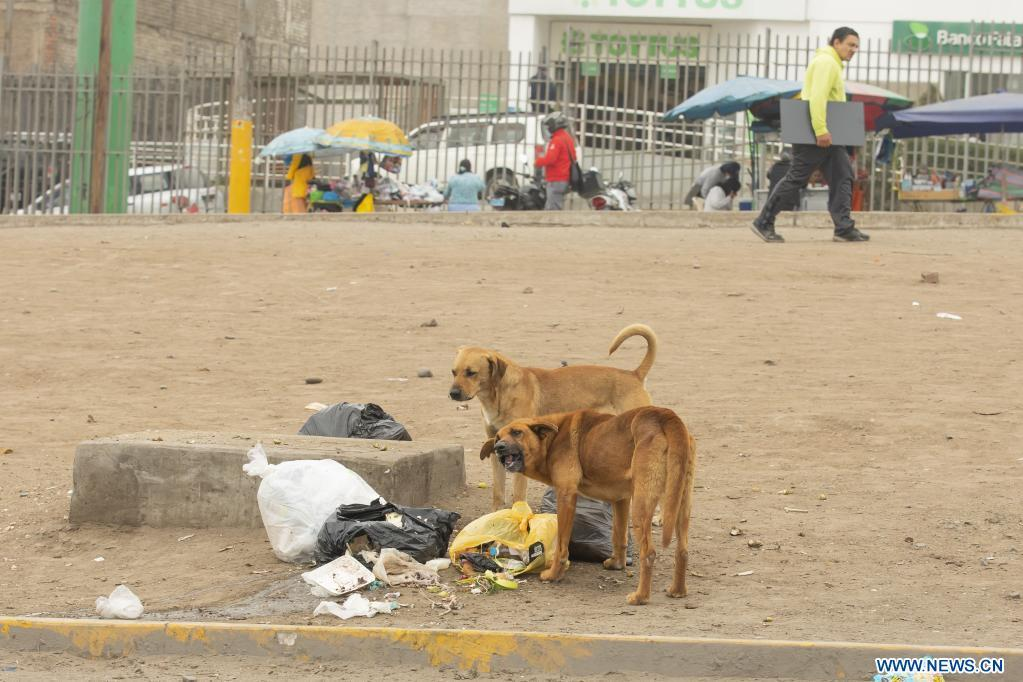dog_aggressive: (495, 403, 708, 610)
normal_dogs: (441, 320, 677, 513)
